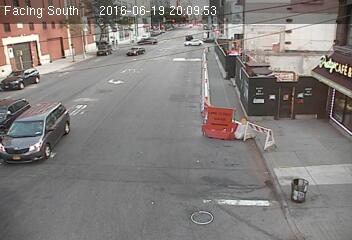neg: (198, 96, 227, 135), (20, 106, 49, 145), (24, 34, 53, 73), (73, 138, 102, 176), (132, 161, 161, 199), (257, 80, 285, 117), (220, 173, 246, 209), (295, 106, 321, 140), (156, 36, 181, 70), (68, 85, 92, 117), (294, 173, 317, 204), (120, 48, 142, 78), (54, 183, 76, 212), (208, 39, 229, 68), (152, 117, 172, 144), (187, 198, 207, 224)
